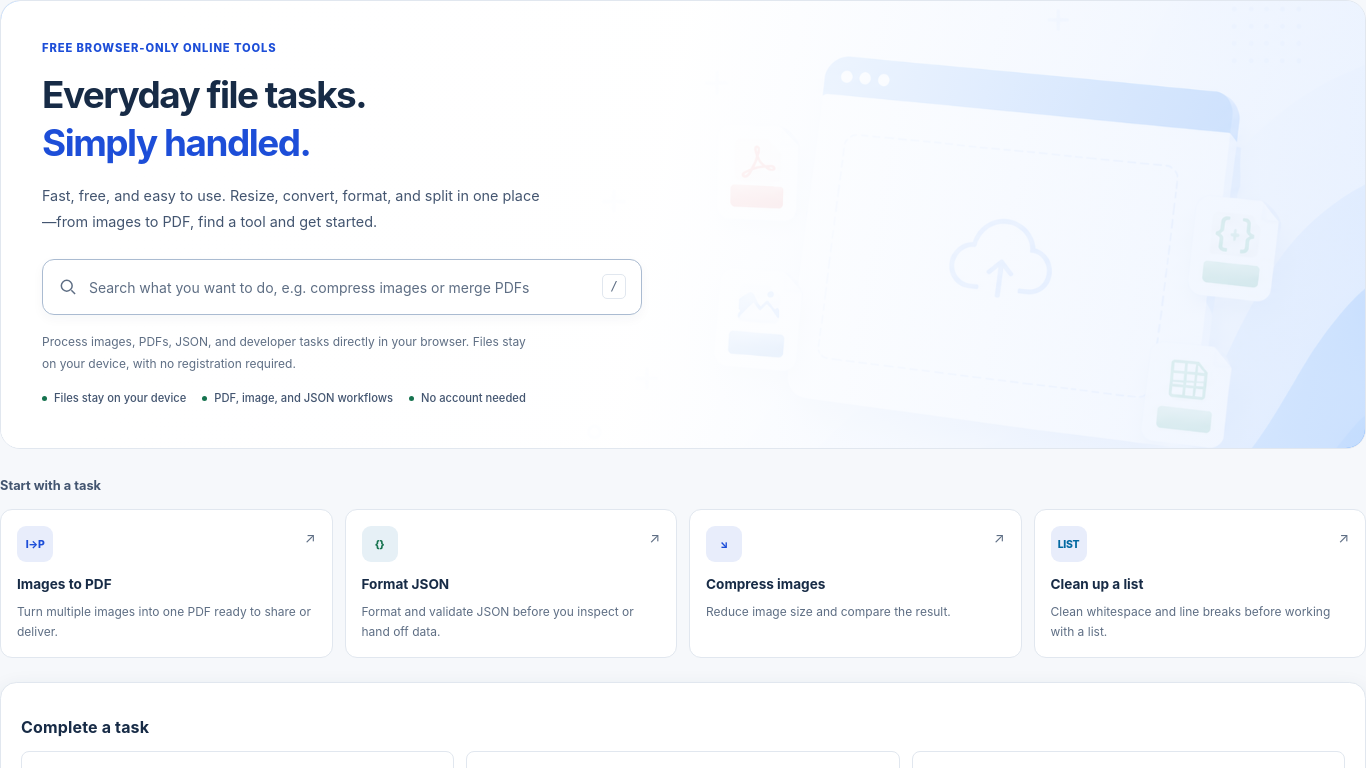
Scenario: HomePage task-first hierarchy › ranks the closest task match ahead of broad keyword matches
Replace the text in the field named "Search Tools" with "base64" at (342, 287), box [42,259,642,315]
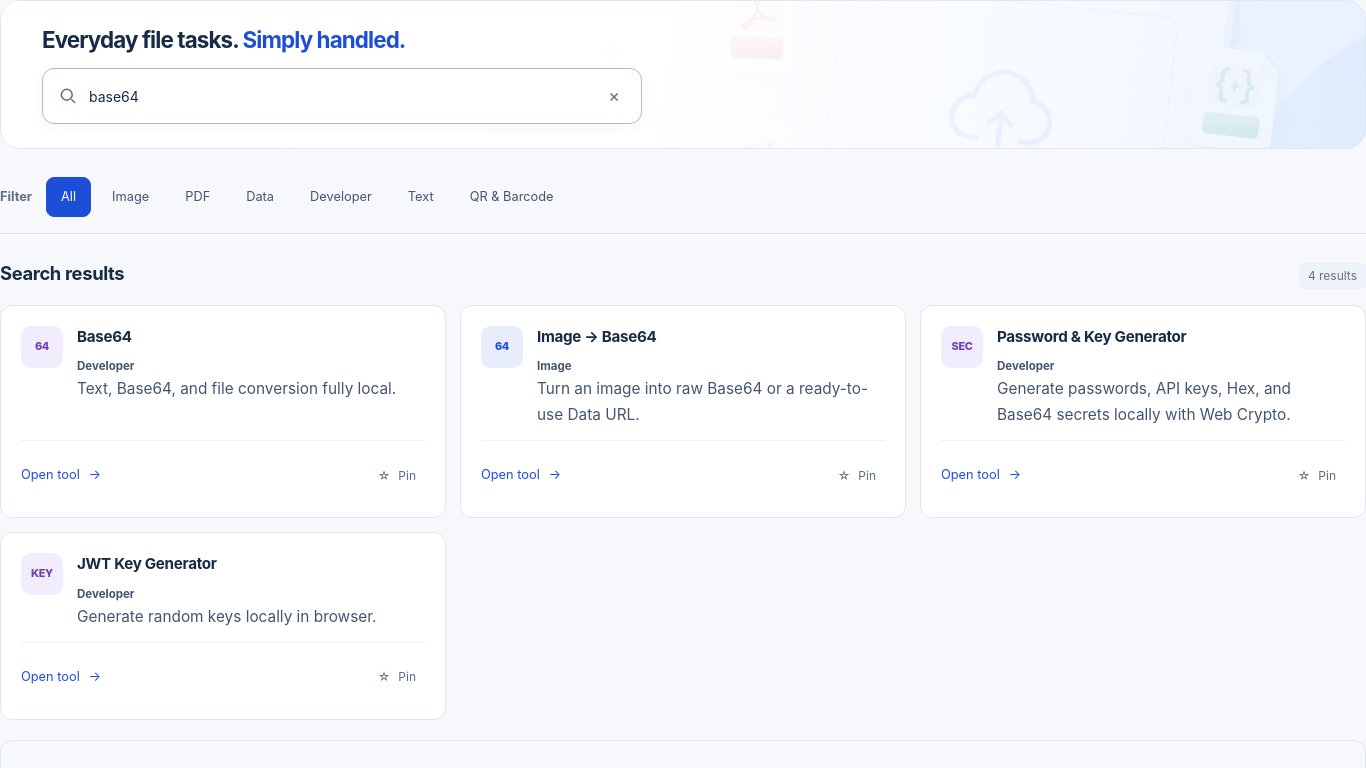
expect the heading "Base64" is shown: met, box [77,326,132,346]
expect the heading "Search results" is shown: met, box [0,260,124,287]
